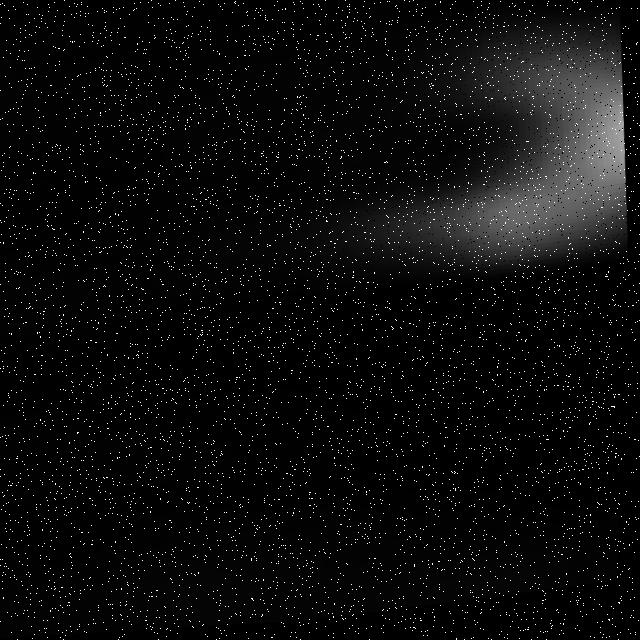person: (325, 1, 640, 311)
